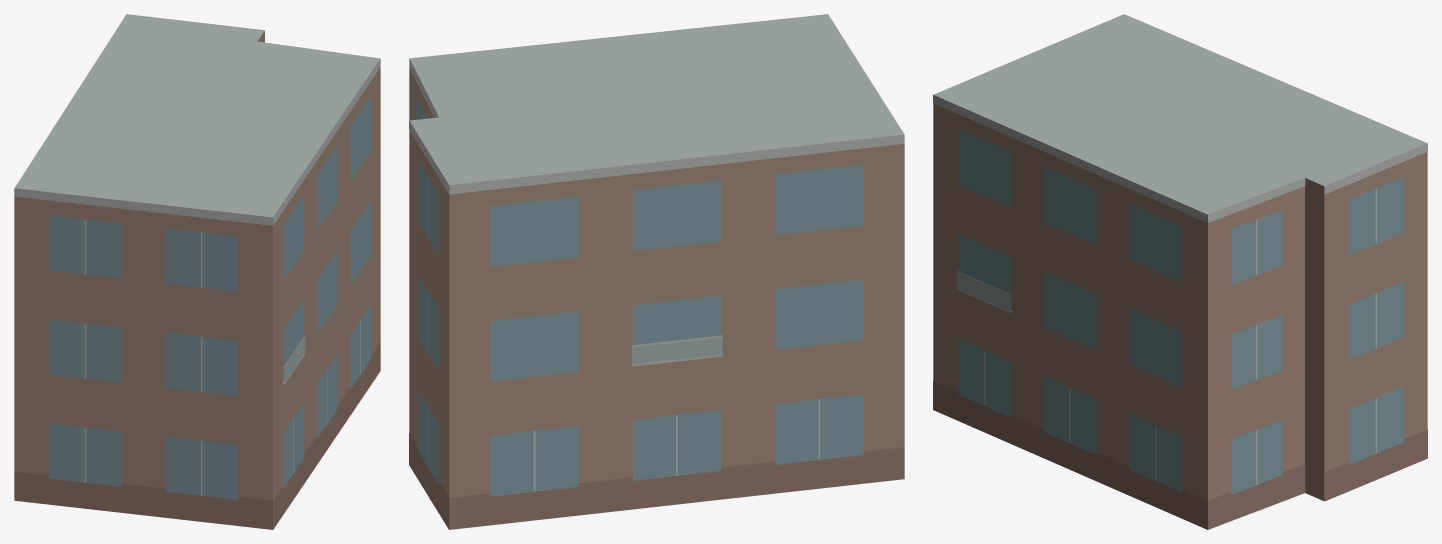
The model's file is survey-upis-32719228.glb.
The picture shows the model from 3 angles, left to right: view 1: azimuth 30°, elevation 25°; view 2: azimuth 150°, elevation 25°; view 3: azimuth 270°, elevation 25°; orthographic projection. The views are drawn at different scales.
Parts seen in each view (by area): view 1: survey-upis-32719228.tmp; view 2: survey-upis-32719228.tmp; view 3: survey-upis-32719228.tmp.
Part boxes in pixels (x1,y1,x2,y2): survey-upis-32719228.tmp: (14,14,380,529); survey-upis-32719228.tmp: (409,14,904,529); survey-upis-32719228.tmp: (933,14,1427,529).
Bounding box in the file's own units: 12.5 × 9.15 × 13.02.
